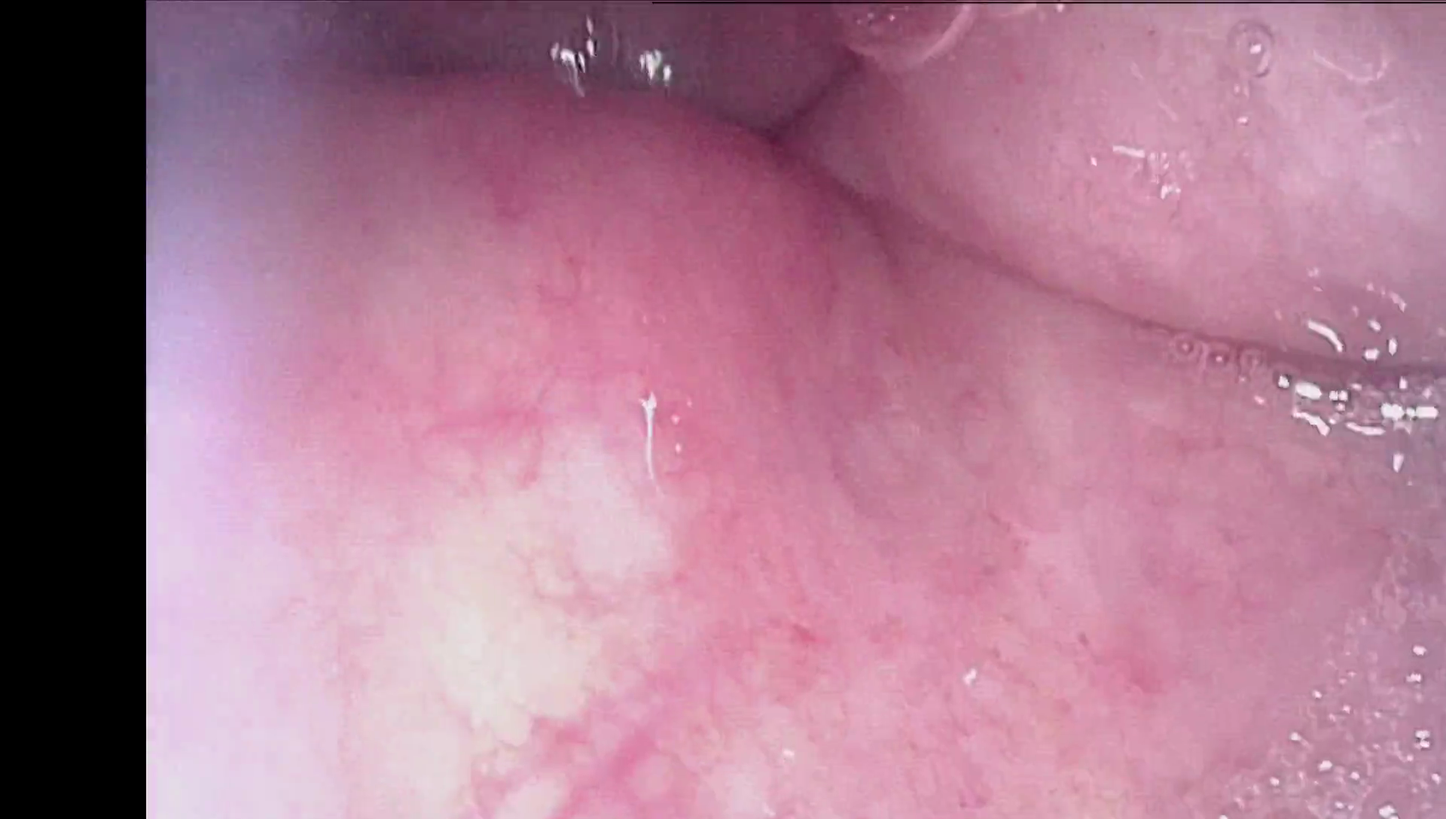close_wall: (160, 205, 995, 819)
